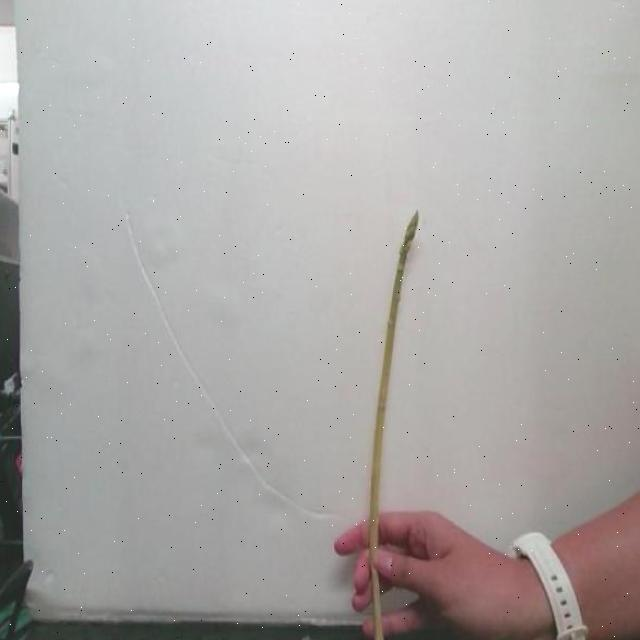aspargus: (366, 217, 422, 640)
